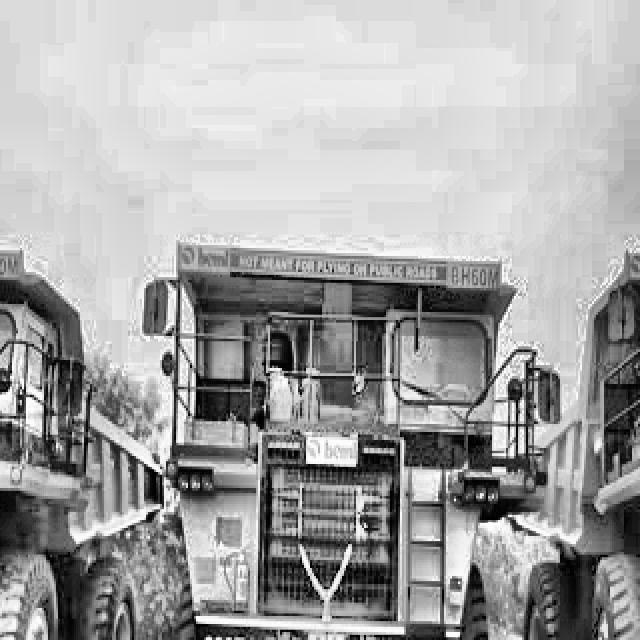dump_truck: (130, 224, 514, 640), (0, 234, 128, 640)
